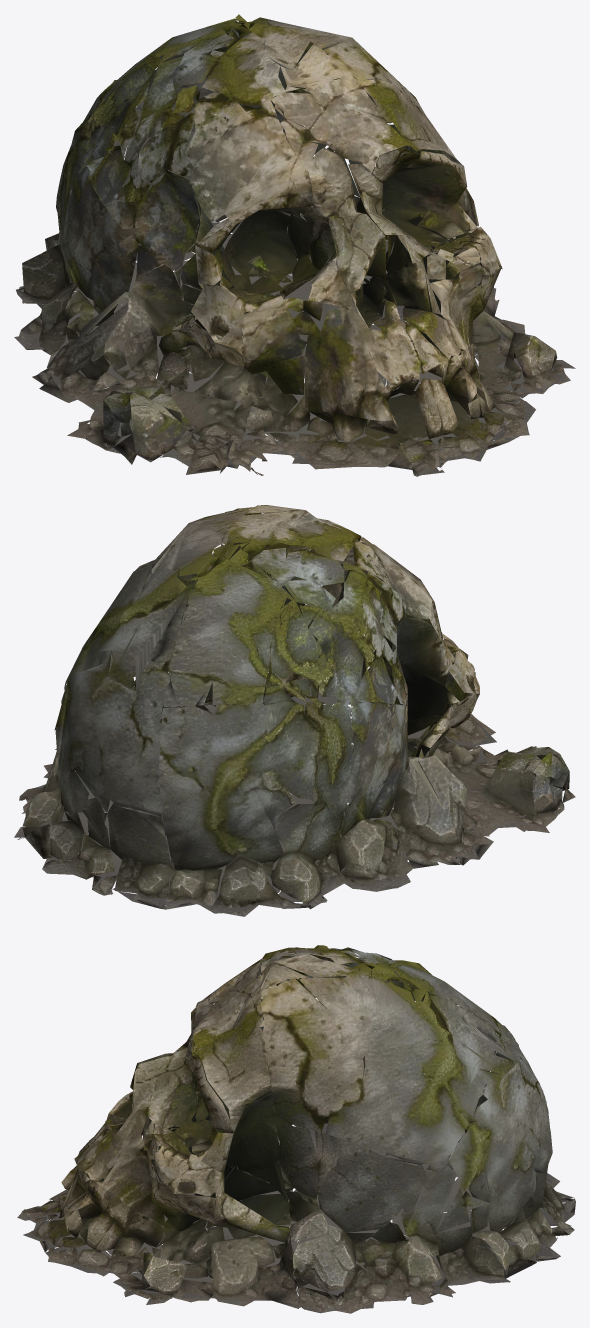
Rendered from GiantSkull.fbx.
3 views of the same model, one above another, from view 1: azimuth 30°, elevation 25°; view 2: azimuth 150°, elevation 25°; view 3: azimuth 270°, elevation 25° (orthographic). The views are drawn at different scales.
Parts seen in each view (by area): view 1: GiantSkull_Body; view 2: GiantSkull_Body; view 3: GiantSkull_Body.
Boxes of the visible parts, x1,y1,x2,y2 form: GiantSkull_Body: (14,14,575,476); GiantSkull_Body: (14,505,575,916); GiantSkull_Body: (17,945,575,1313).
Bounding box in the file's own units: 1.62 × 1 × 1.92.
Materials: 1 (1 with a texture image).
